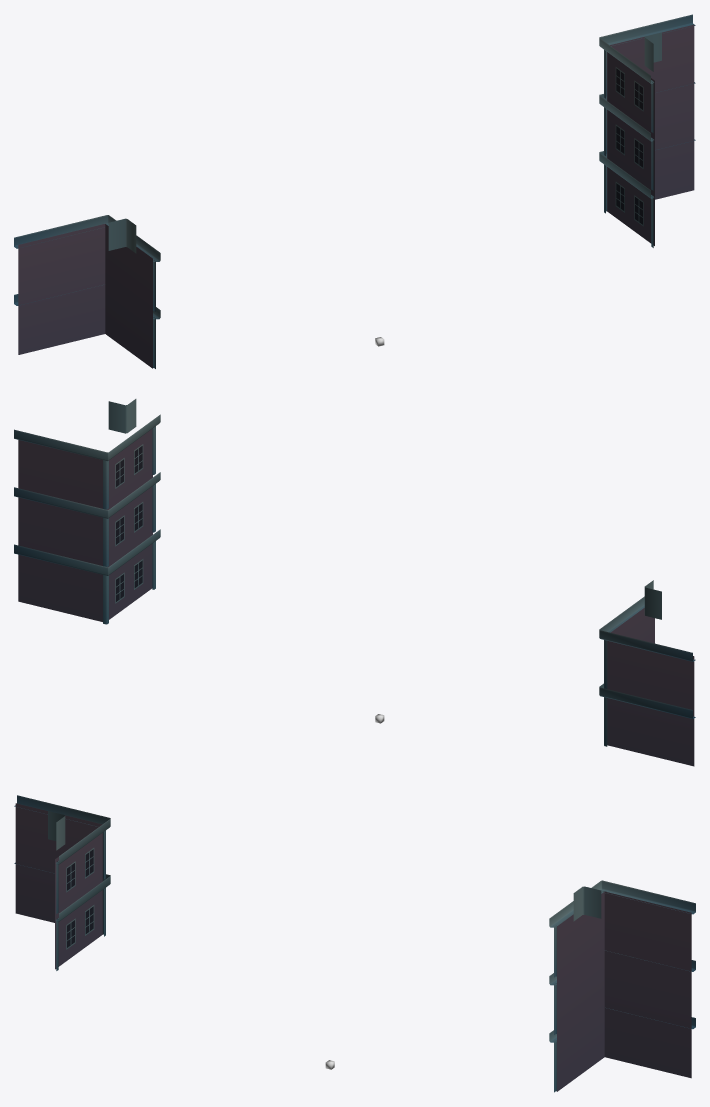
File: FarBackBuilding01.fbx
3 renders of one model, top to bottom at view 1: azimuth 30°, elevation 25°; view 2: azimuth 150°, elevation 25°; view 3: azimuth 330°, elevation 25°, orthographic.
Parts seen in each view (by area): view 1: FarBackBuilding01; view 2: FarBackBuilding01; view 3: FarBackBuilding01.
Part boxes in pixels (x1,y1,x2,y2): FarBackBuilding01: (14,14,695,368); FarBackBuilding01: (14,399,695,766); FarBackBuilding01: (14,795,695,1092).
Size of the model in its own units: 7634 by 2674 by 1017.
